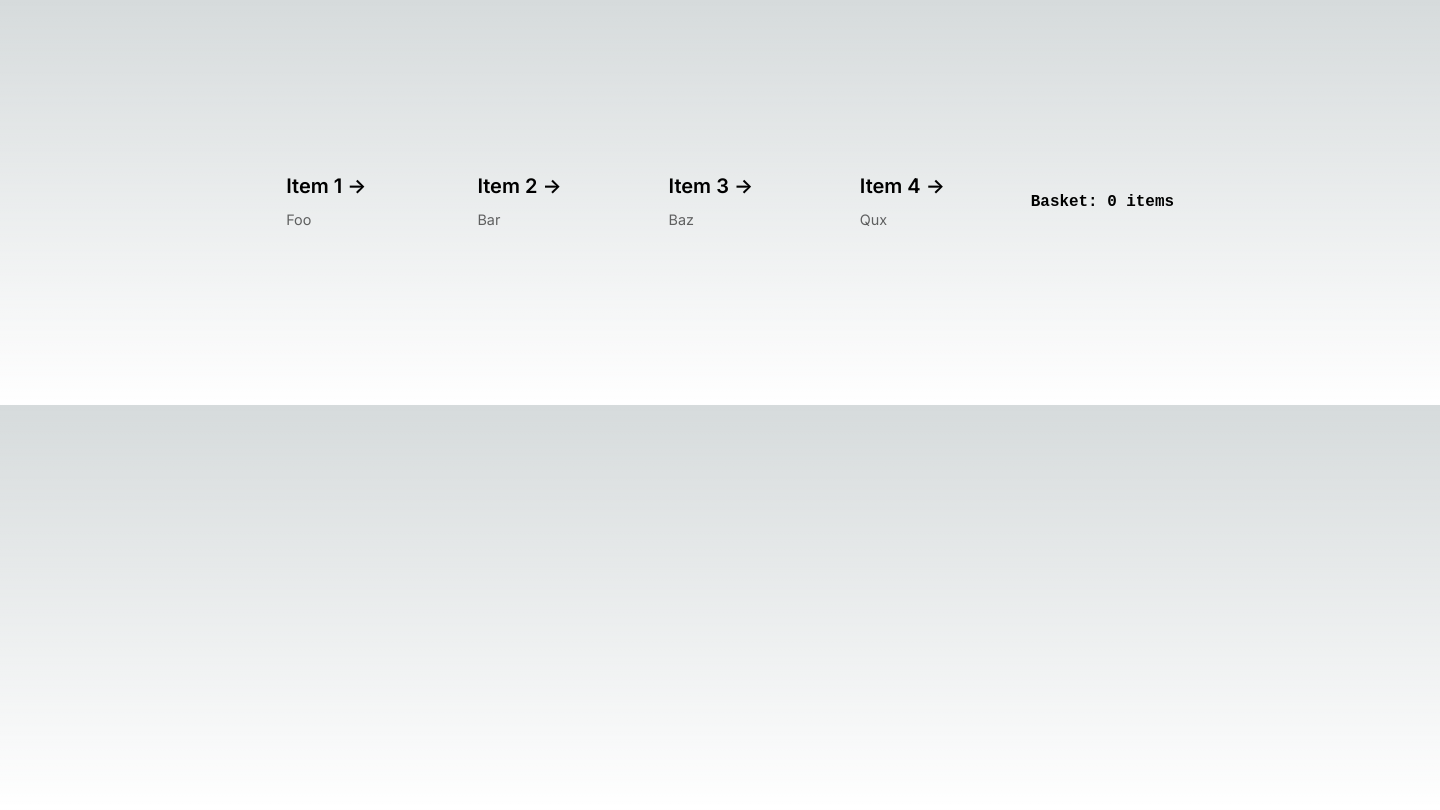
Test: Basket › should update basket when an item quantity is changed
The width and height of the screenshot is (1440, 810).
Click the heading "Item 1 ->".
click(326, 186)  # box 286,174 -> 366,198
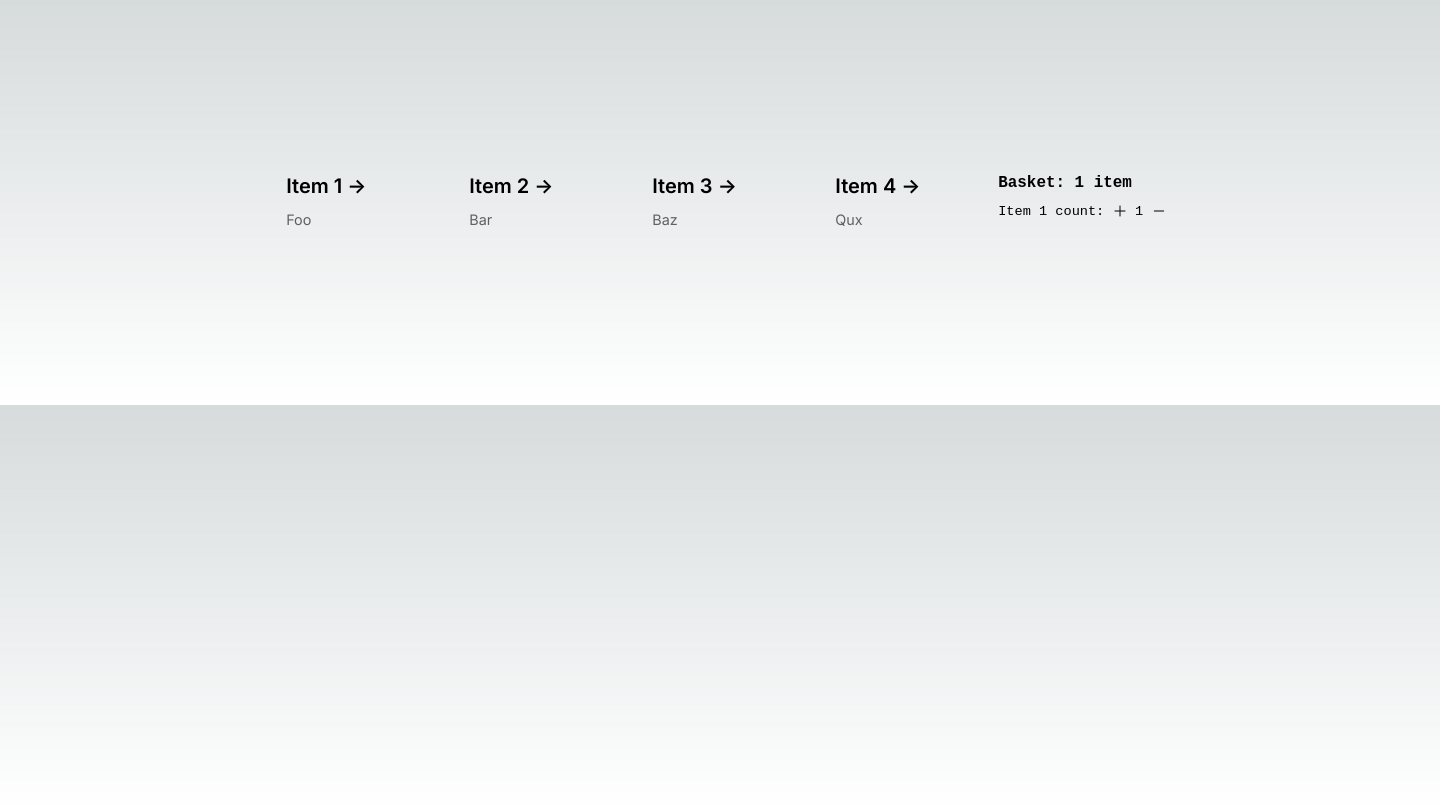
Click the button named "Increase quantity".
click(1120, 214)  # box 1104,196 -> 1135,231
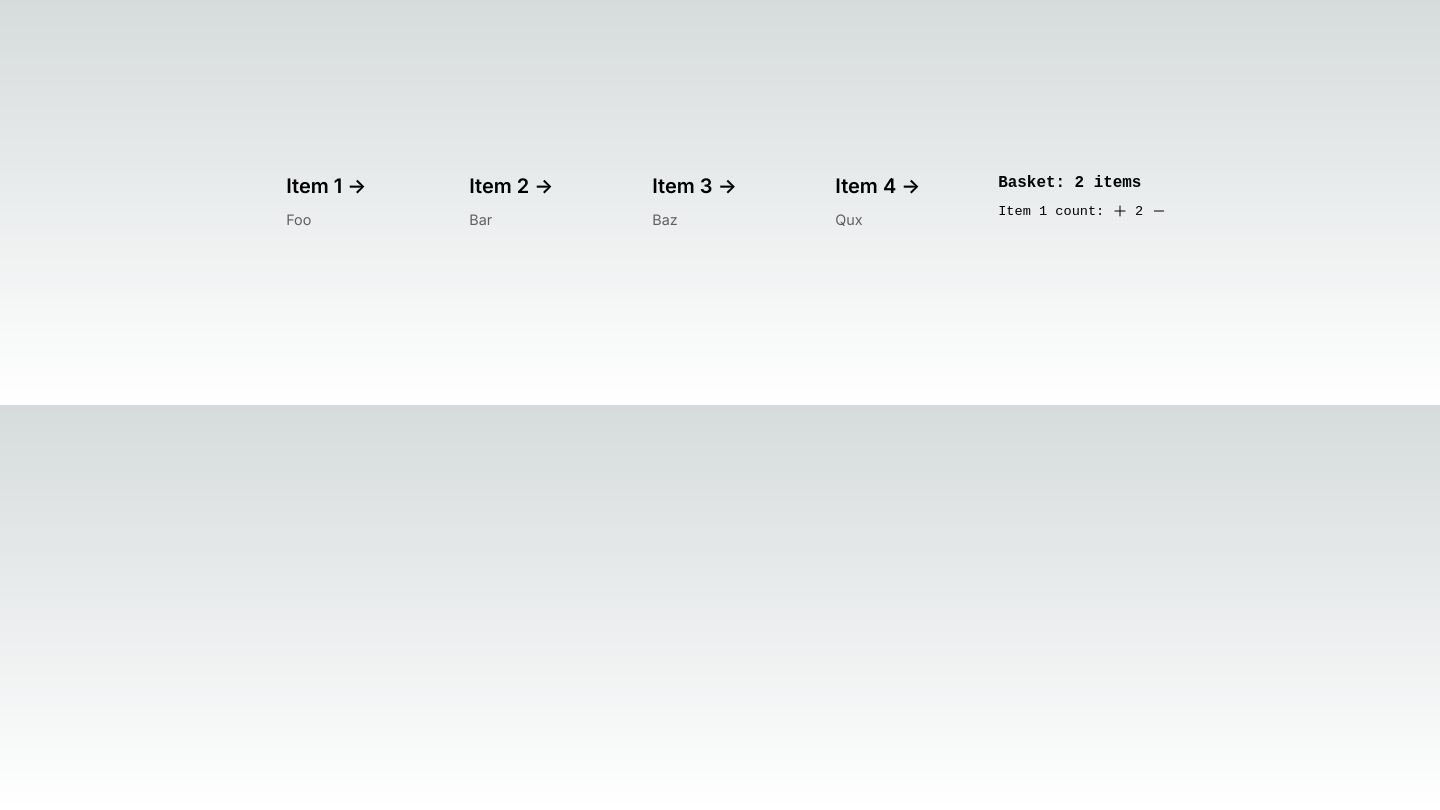
Result: the text "2" is shown at 1135,204 -> 1143,219
Result: the heading "Basket: 2 items" is shown at 998,174 -> 1141,192
Click the button named "Decrease quantity".
click(1159, 214)  # box 1143,196 -> 1174,231
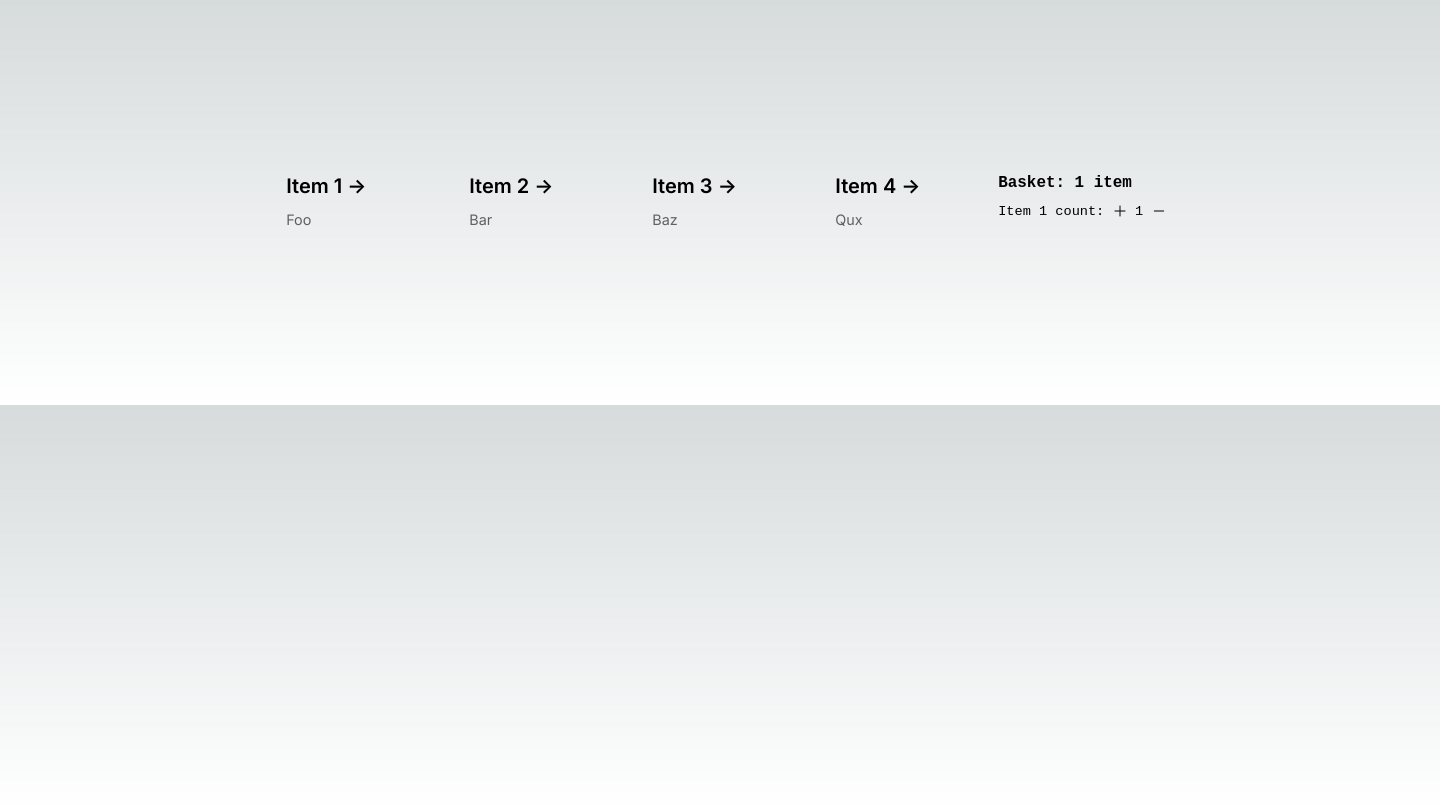
Result: the text "1" is shown at 1135,204 -> 1143,219
Result: the heading "Basket: 1 item" is shown at 998,174 -> 1132,192
Click the button named "Decrease quantity".
click(1159, 214)  # box 1143,196 -> 1174,231
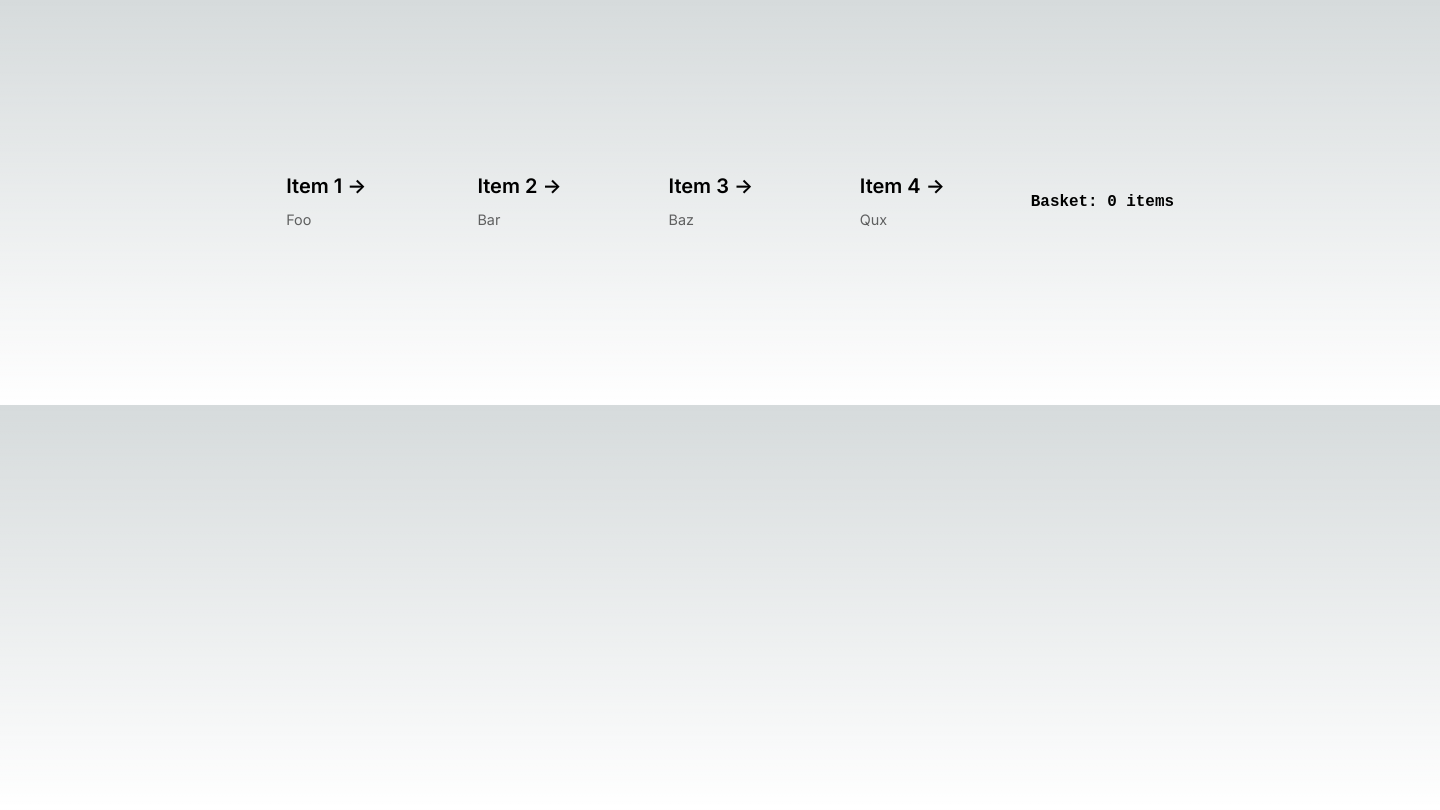
Result: the heading "Basket: 0 items" is shown at 1031,194 -> 1174,212
Result: the text "Item 1 count:" is gone
